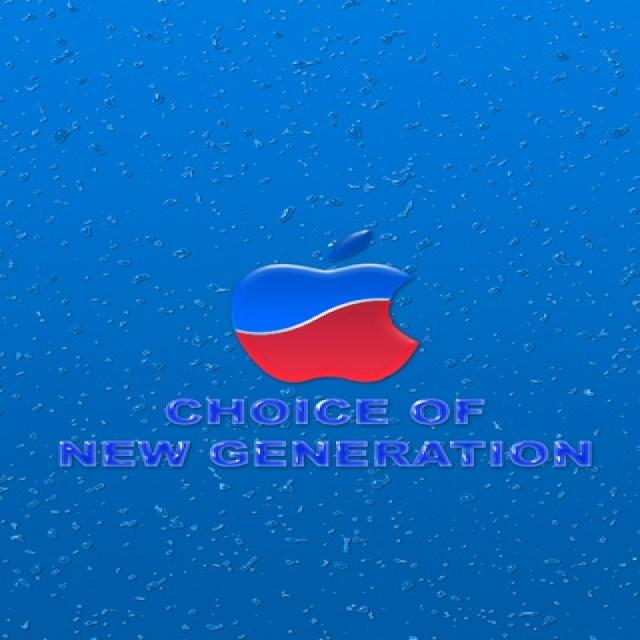apple: (223, 224, 433, 393)
